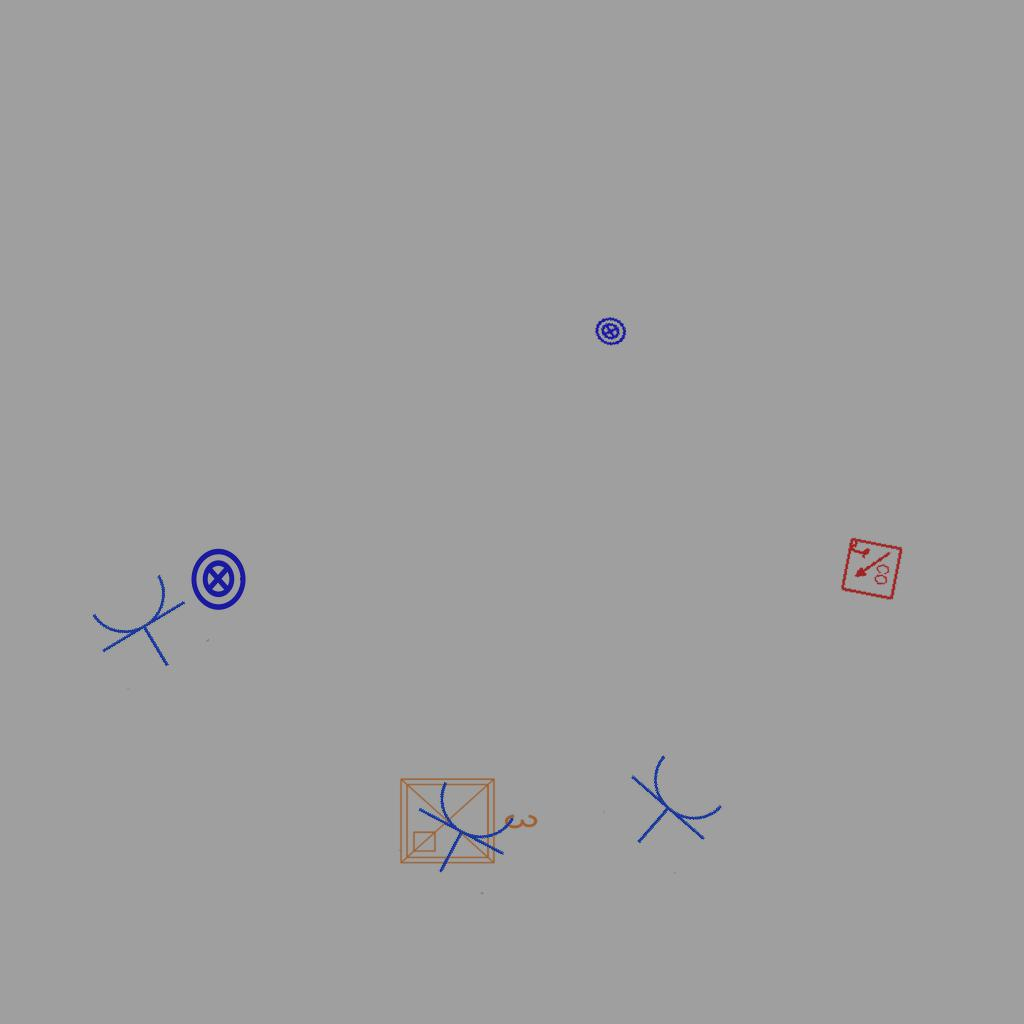Einbaudownlights_LED_Konferenzraeume: (393, 767, 543, 871)
ROA_Rauchmelder_optisch_mit_Signalgeber_(Sockelsirene): (838, 536, 904, 602)
Schukosteckdose_einfach: (600, 744, 734, 877), (80, 565, 212, 692), (396, 772, 526, 897)
Taster_beleuchtet: (185, 546, 251, 612), (589, 310, 632, 353)
